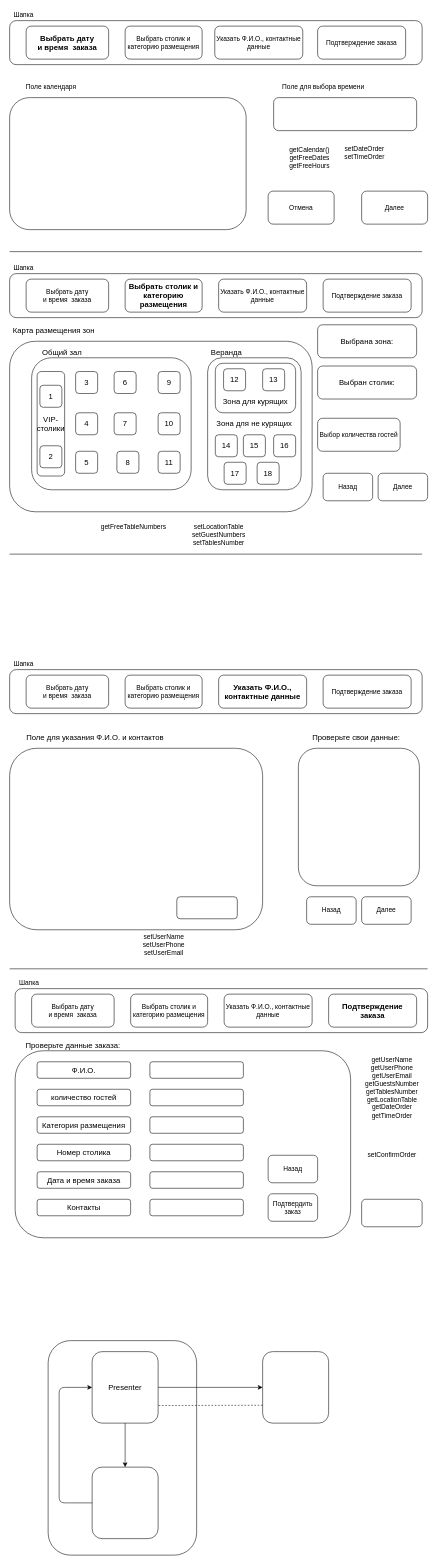
This 438x1565 diagram has some shape labels left out. The centre of each missing label's shape, as x and y in pixels:
"Model" goes at pixel 295 1387.
"View" goes at pixel 125 1503.
"Отменить заказ" goes at pixel 391 1213.
"Подтвердить данные" goes at pixel 206 907.
